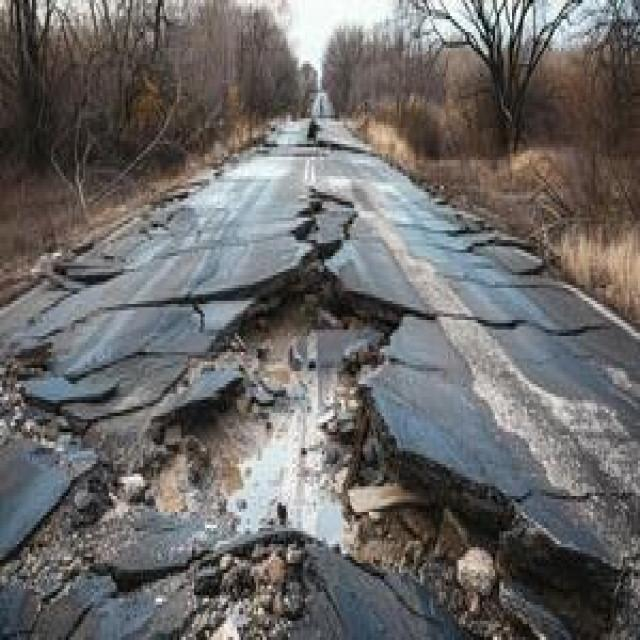road collapse: (87, 141, 516, 640)
